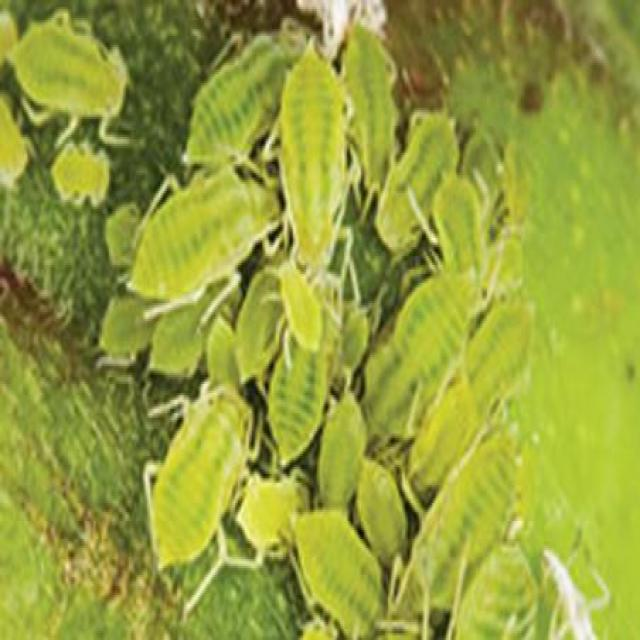Aphid-Grown-: (111, 128, 282, 336), (136, 380, 286, 593), (263, 17, 363, 294), (7, 6, 142, 150)
